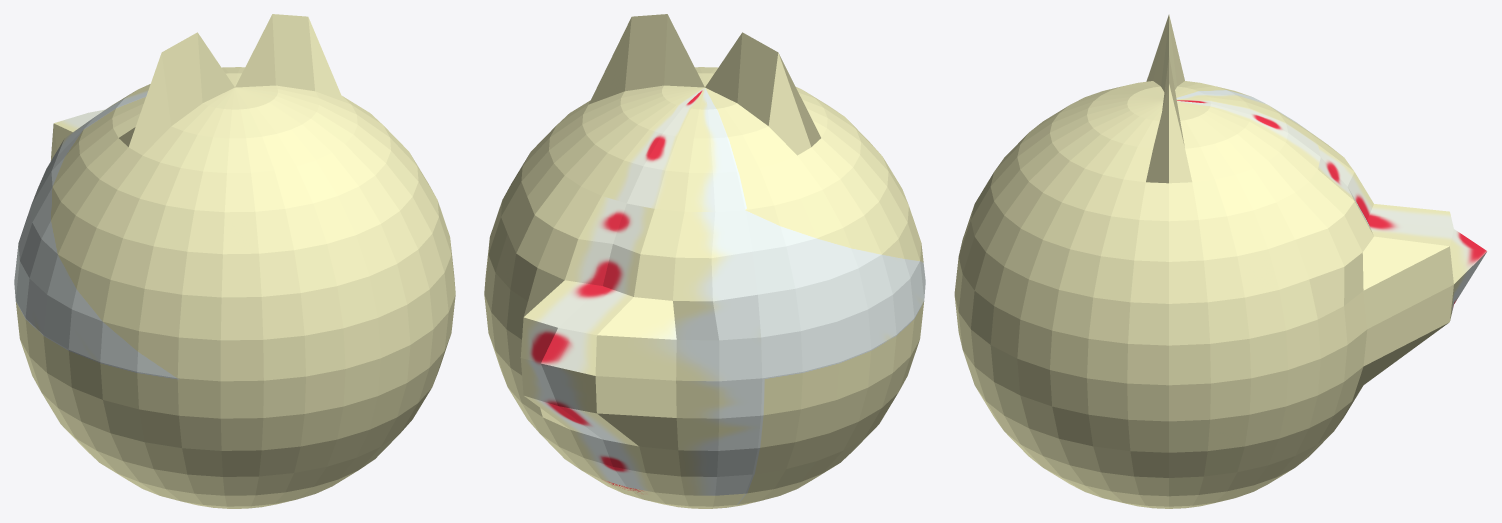
The model's file is Enemy.obj.
The picture shows the model from 3 angles, left to right: view 1: azimuth 30°, elevation 25°; view 2: azimuth 150°, elevation 25°; view 3: azimuth 270°, elevation 25°; orthographic projection. The views are drawn at different scales.
Parts seen in each view (by area): view 1: 球; view 2: 球; view 3: 球.
Part boxes in pixels (bbox=[...]): 球: bbox=[14, 14, 455, 508]; 球: bbox=[484, 14, 925, 508]; 球: bbox=[954, 14, 1487, 508].
Bounding box in the file's own units: 2 × 2.32 × 2.48.
Materials: 1 (1 with a texture image).
